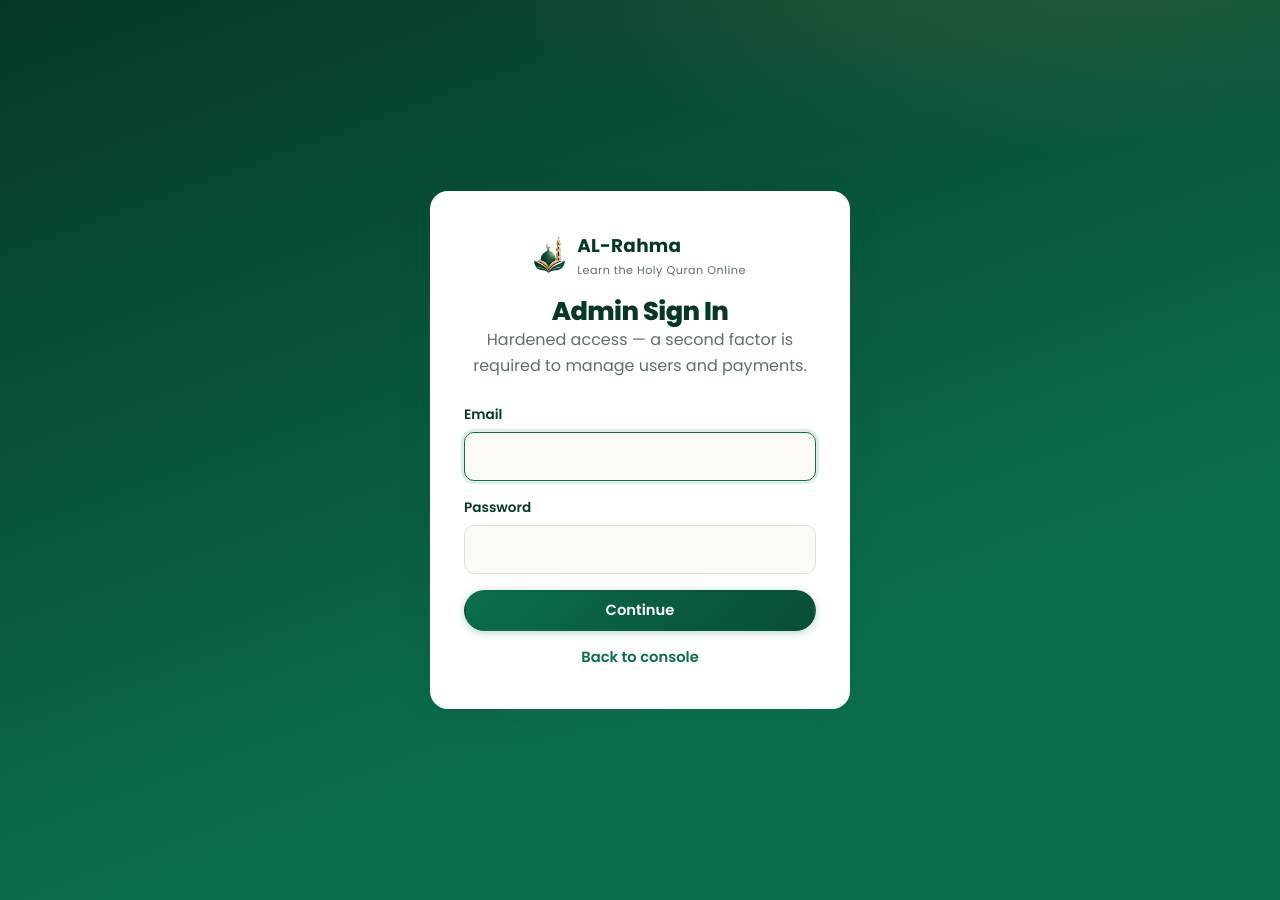
Test case: AdminLogin › failed login: shows the server error message and stays on the credentials form
Type "jane@example.com" into the field labelled "Email" at coordinates (640, 456), box [464, 432, 816, 481]
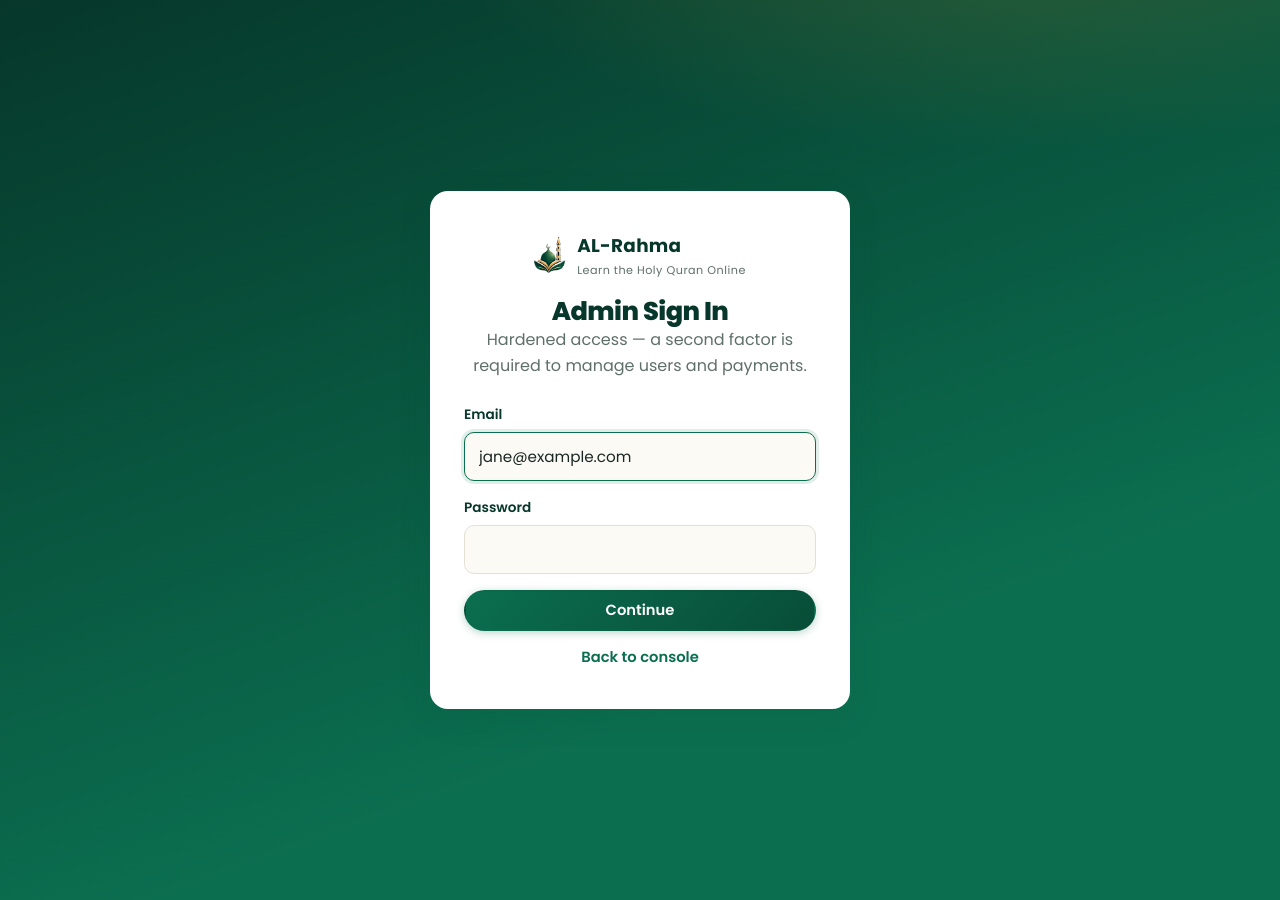
Type "wrong-password" into the password field labelled "Password" at coordinates (640, 550), box [464, 525, 816, 574]
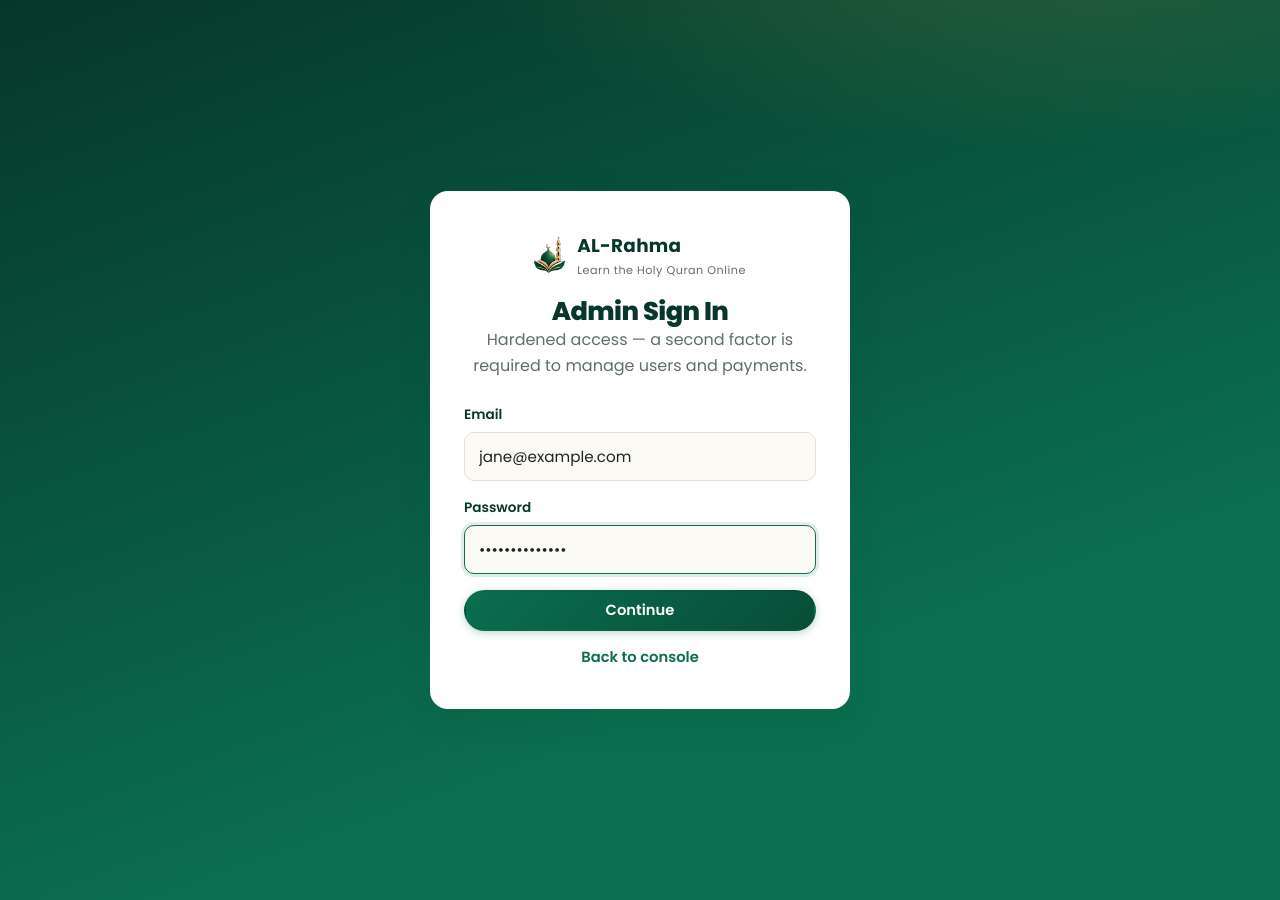
Click the button "Continue" at coordinates (640, 611), box [464, 590, 816, 631]
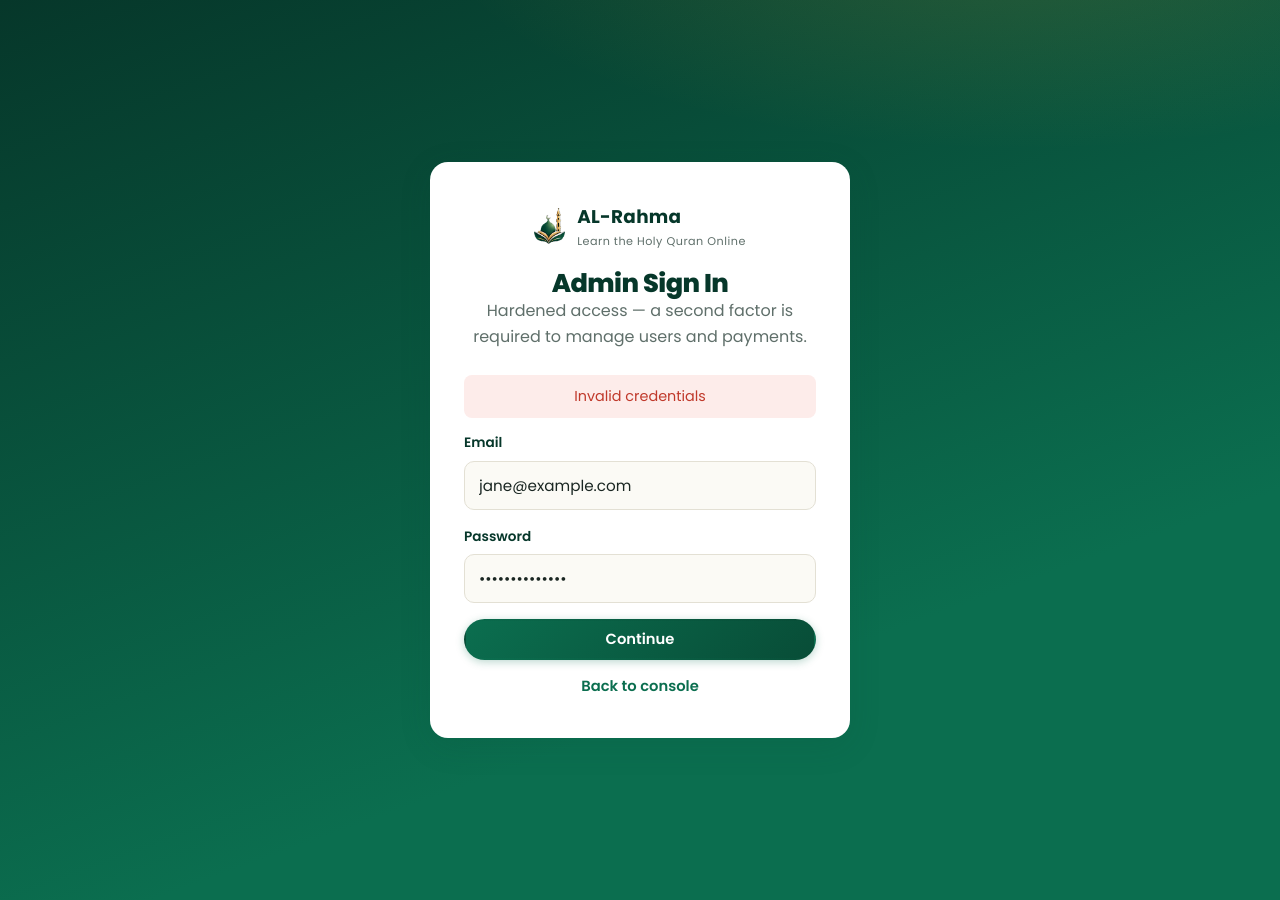
Expected: the message reads "Invalid credentials", [574, 386, 706, 406]
